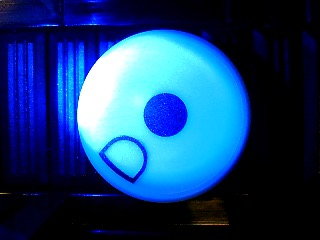BOHOMIPO1: (74, 28, 251, 203)
